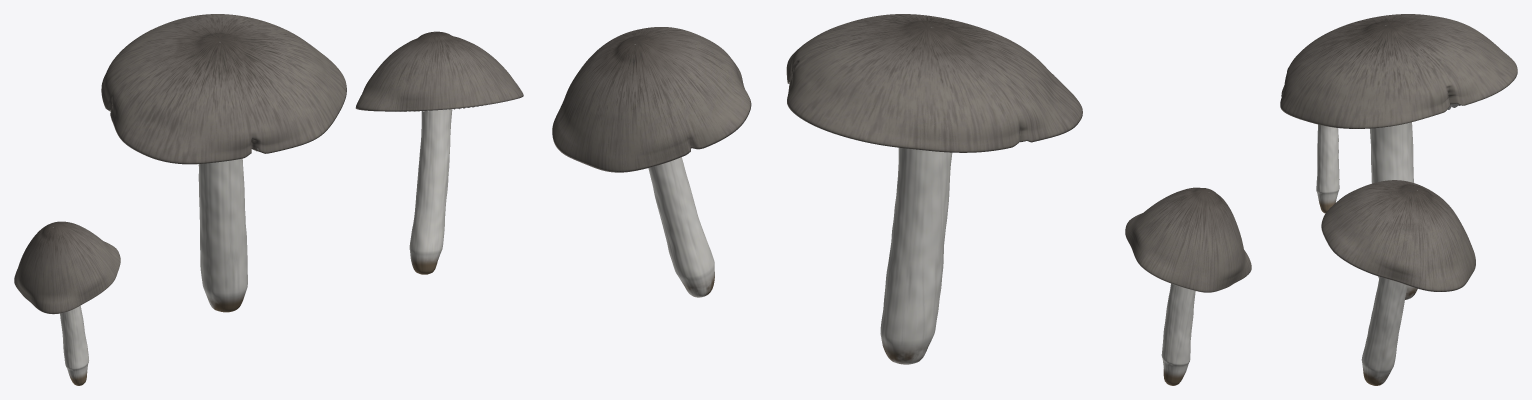
Rendered from tricholoma-terreum.glb.
3 views of the same model, side by side, from view 1: azimuth 30°, elevation 25°; view 2: azimuth 150°, elevation 25°; view 3: azimuth 270°, elevation 25° (orthographic). The views are drawn at different scales.
Parts seen in each view (by area): view 1: cap-a, cap-b, cap-c, stem-a, stem-b, stem-c; view 2: cap-a, cap-b, stem-a, cap-c, stem-b, stem-c; view 3: cap-a, cap-b, stem-b, stem-a, stem-c.
Boxes of the visible parts, x1,y1,x2,y2 form: cap-a: (101, 14, 346, 164); cap-b: (355, 31, 523, 111); cap-c: (14, 221, 120, 314); stem-a: (198, 158, 247, 312); stem-b: (409, 109, 452, 274); stem-c: (60, 305, 88, 385); cap-a: (786, 14, 1082, 152); cap-b: (552, 27, 751, 172); stem-a: (880, 147, 952, 364); cap-c: (1125, 187, 1251, 292); stem-b: (648, 157, 714, 297); stem-c: (1161, 283, 1195, 385); cap-a: (1280, 14, 1517, 128); cap-b: (1321, 180, 1475, 291); stem-b: (1361, 277, 1407, 385); stem-a: (1370, 122, 1417, 299); stem-c: (1316, 124, 1339, 213).
Size of the model in its own units: 0.1389 by 0.0716 by 0.0575.
9 materials, 9 textured.
